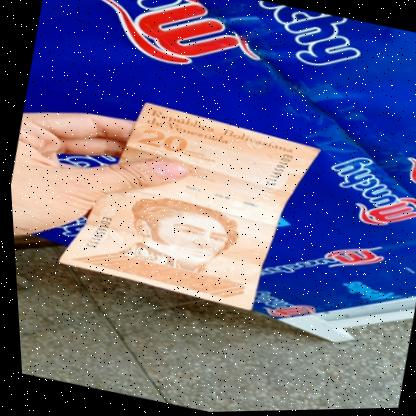twenty-front-vef: (42, 85, 330, 325)
